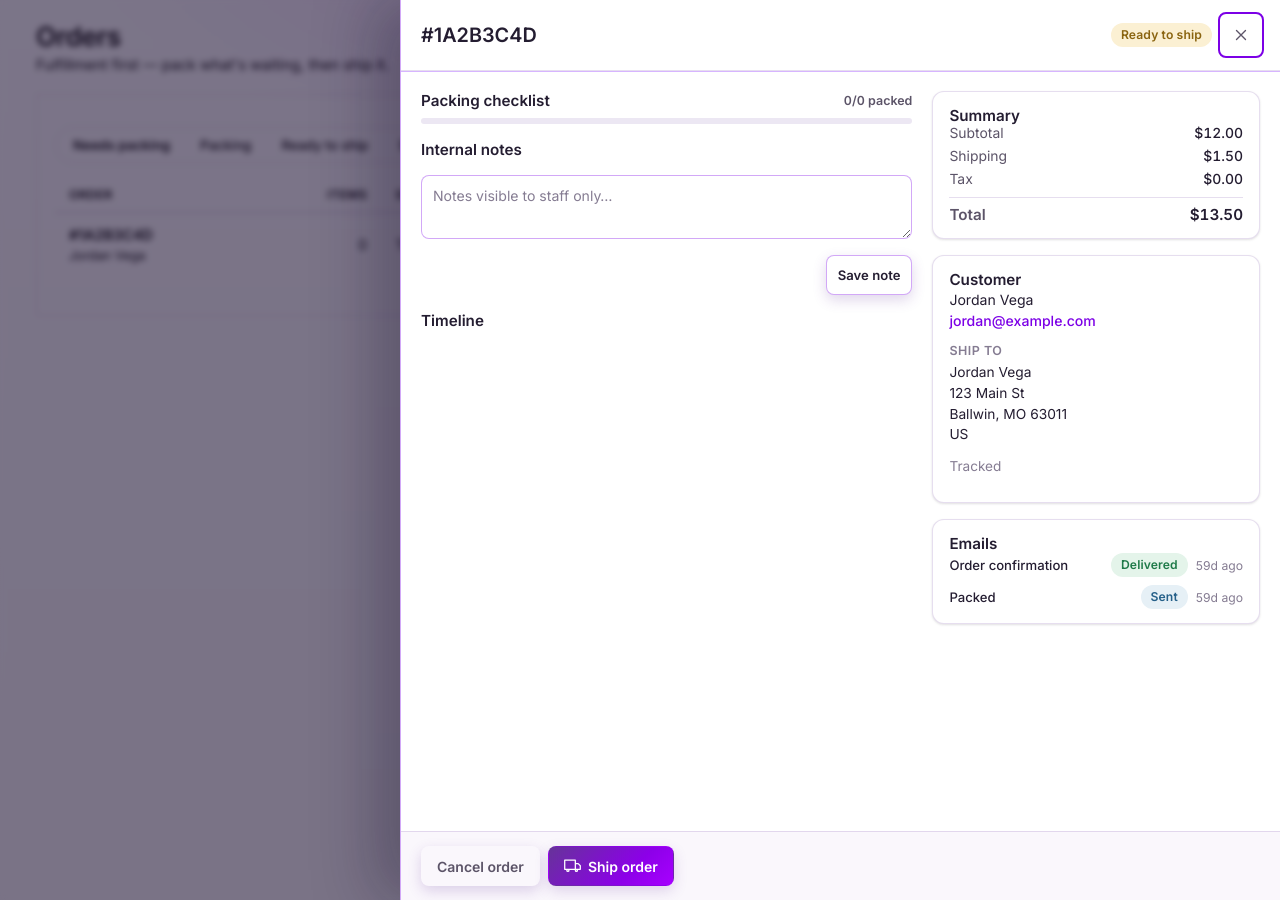
the ship dialog › explains when label buying isn't connected yet
What coordinates should you click on to do the following:
click the button "Ship order"
I would click on:
 (611, 866)
Its box is [548,846,674,886].
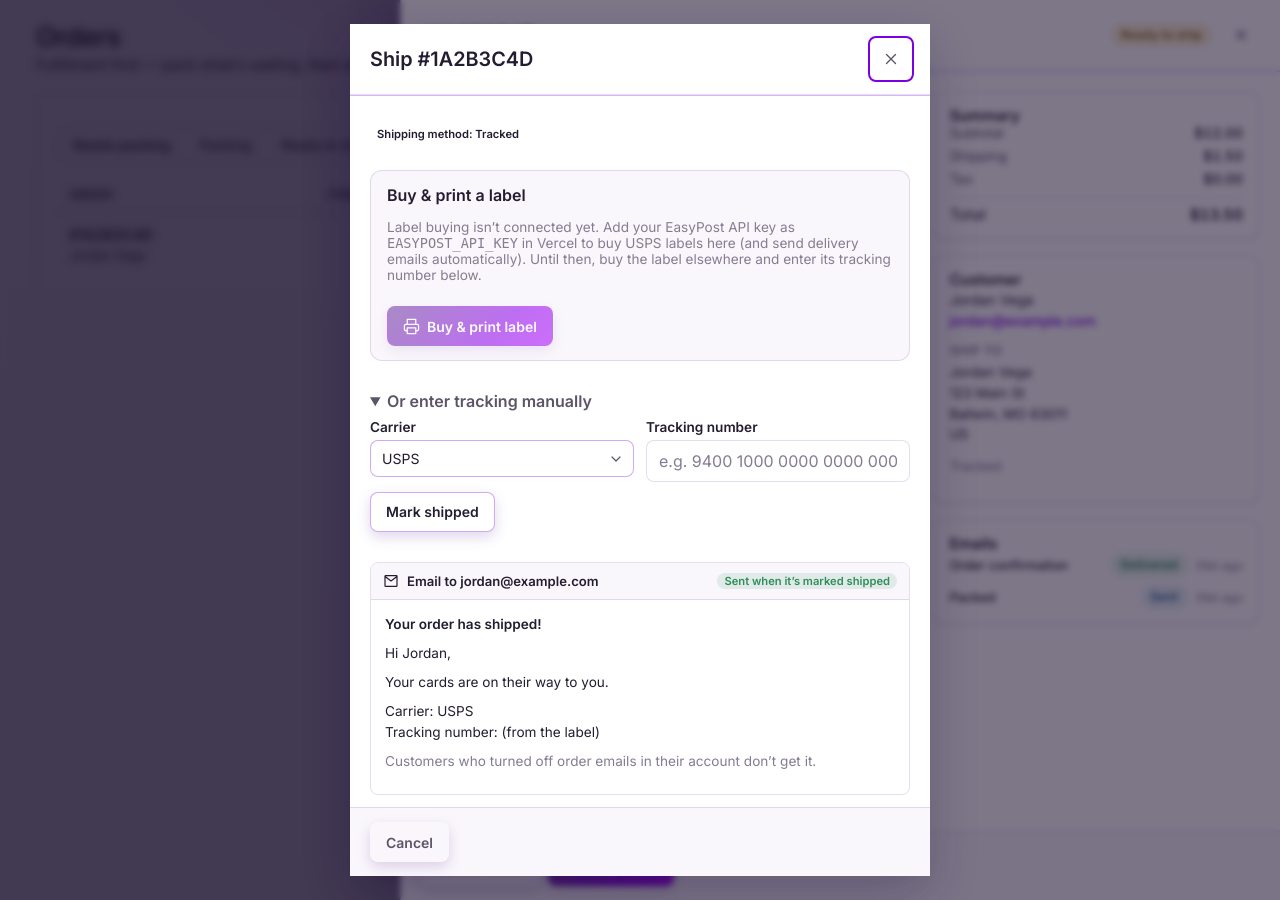
Result: the button "Buy & print label" is disabled at [387,306,553,346]
Result: the dialog "Ship #1A2B3C4D" shows "EASYPOST_API_KEY" at [387,235,518,251]
Result: the field labelled "Tracking number" is shown at [646,440,910,482]
